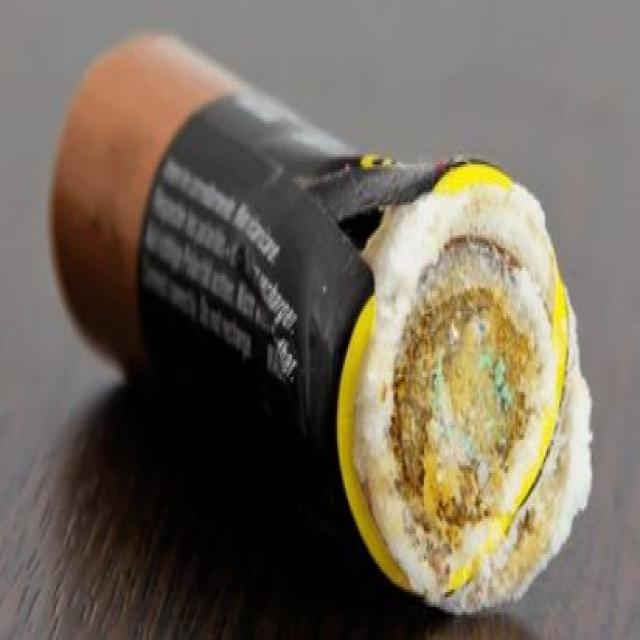electronic: (33, 12, 622, 627)
